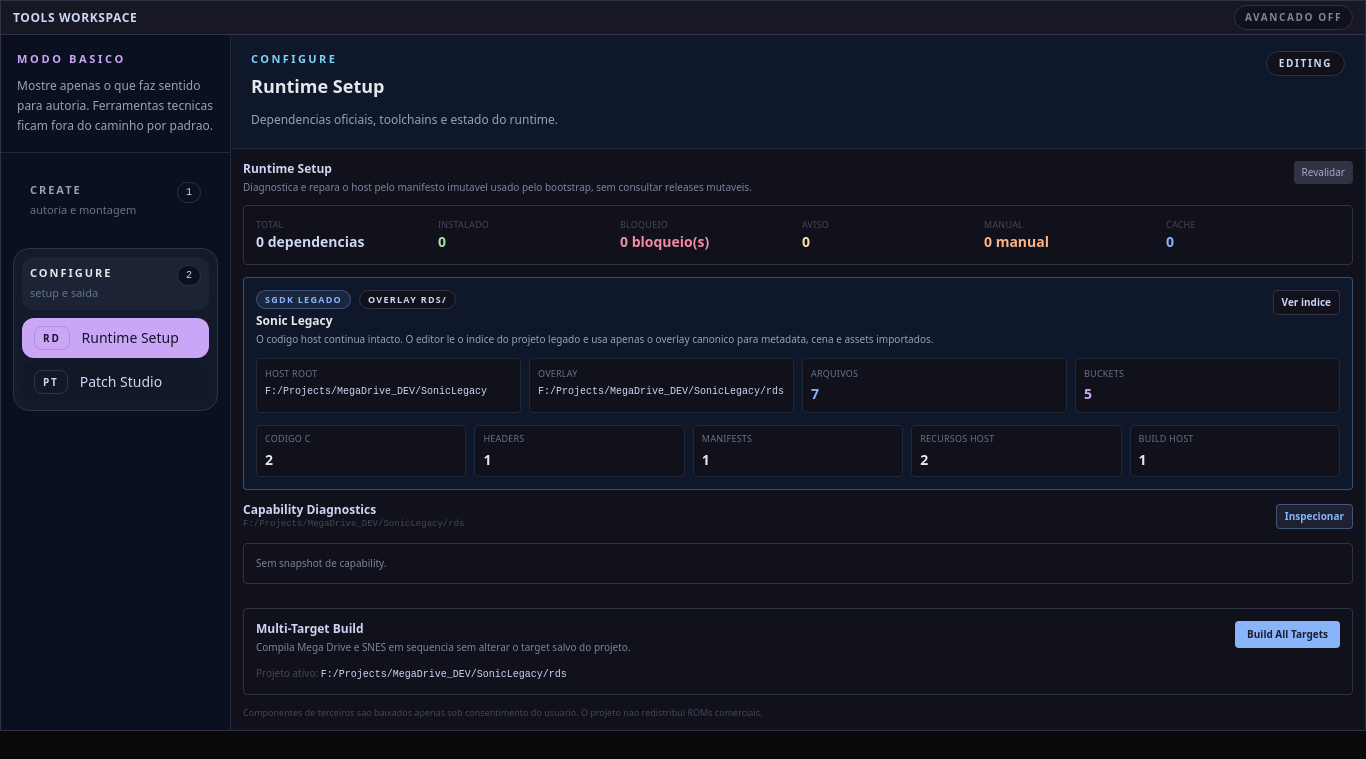
it: ToolsPanel Asset Browser › shows the adopted SGDK host summary in runtime setup
Expected: the element with test id "runtime-legacy-sgdk-card" is shown, 243,276 -> 1353,490
Expected: the element with test id "runtime-legacy-sgdk-card" shows "SGDK legado", 265,292 -> 342,306
Click the button "Ver indice".
click(1306, 302)  # box 1273,290 -> 1340,314
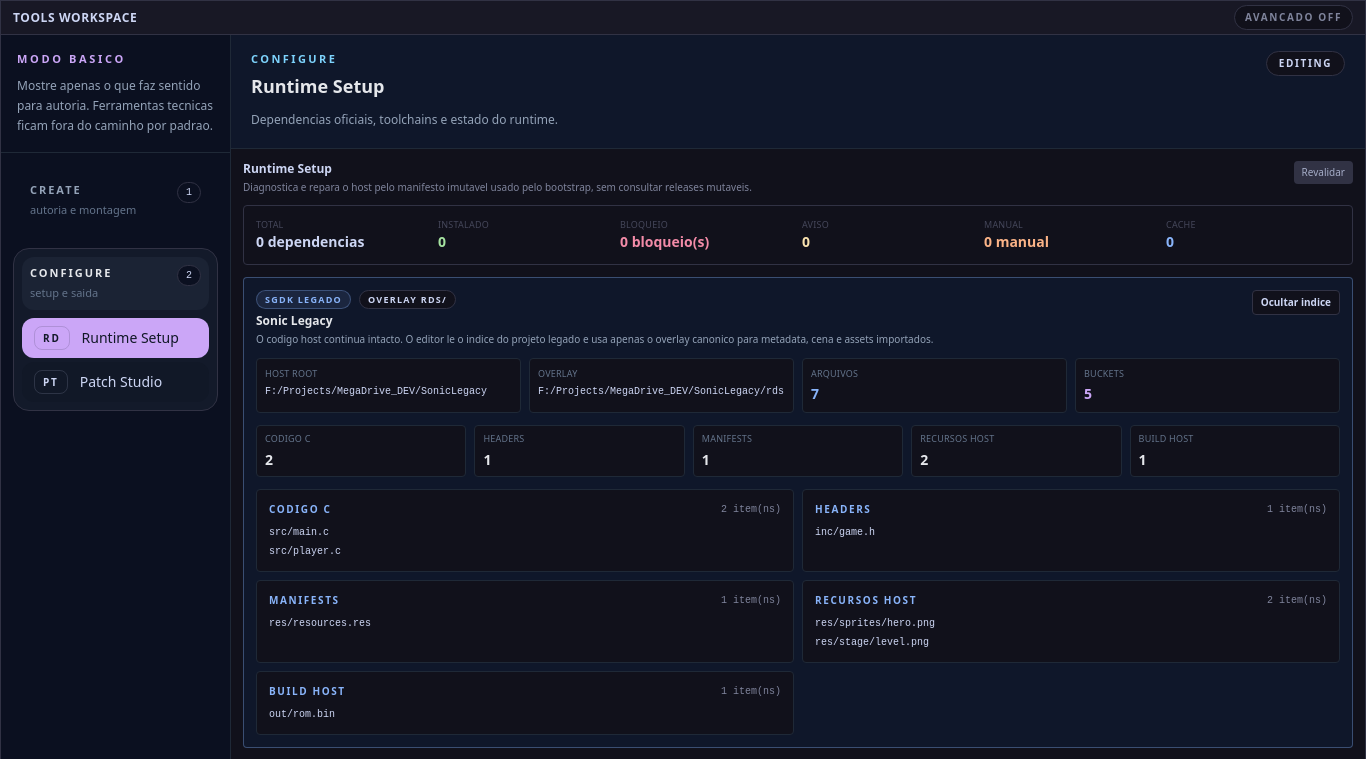
Expected: the element with test id "runtime-legacy-sgdk-card" shows "src/main.c", 269,526 -> 329,538
Expected: the element with test id "runtime-legacy-sgdk-card" shows "res/resources.res", 269,618 -> 371,628
Expected: the element with test id "runtime-legacy-sgdk-card" shows "out/rom.bin", 269,708 -> 335,720
